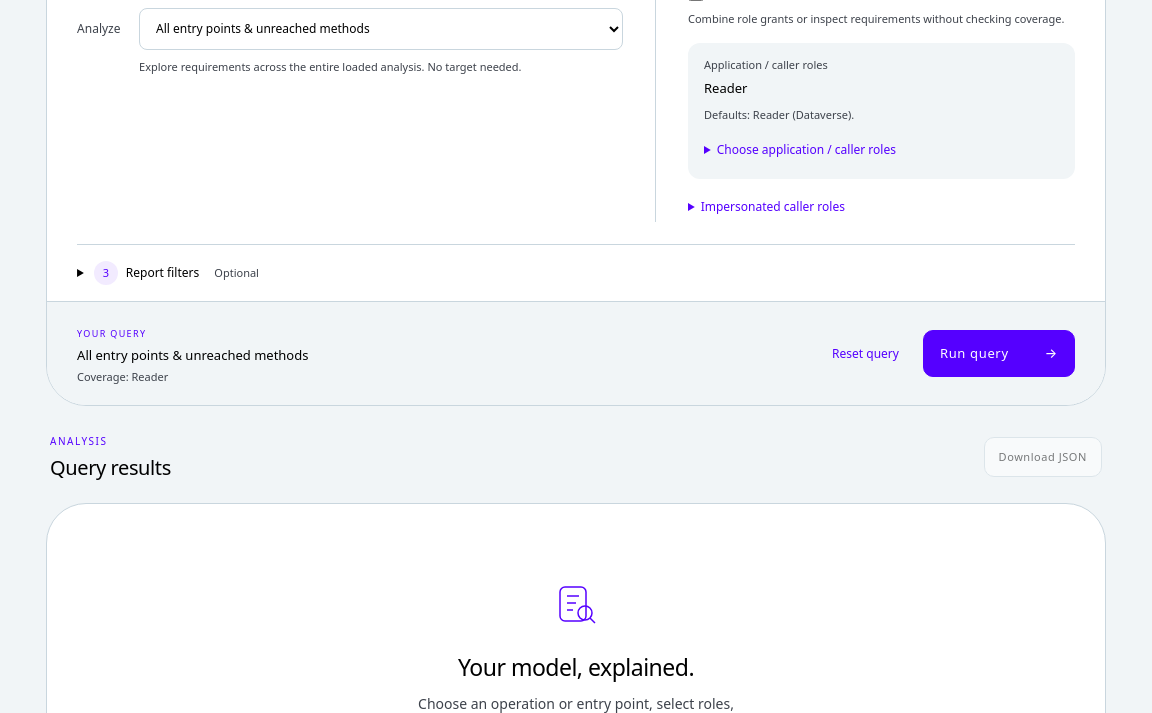
it: React security explorer › shows errors without stale reports and can retry
(page scrolled)
Click the button "Run query →" at (999, 354), box top-left (923, 330), bottom-right (1075, 377)
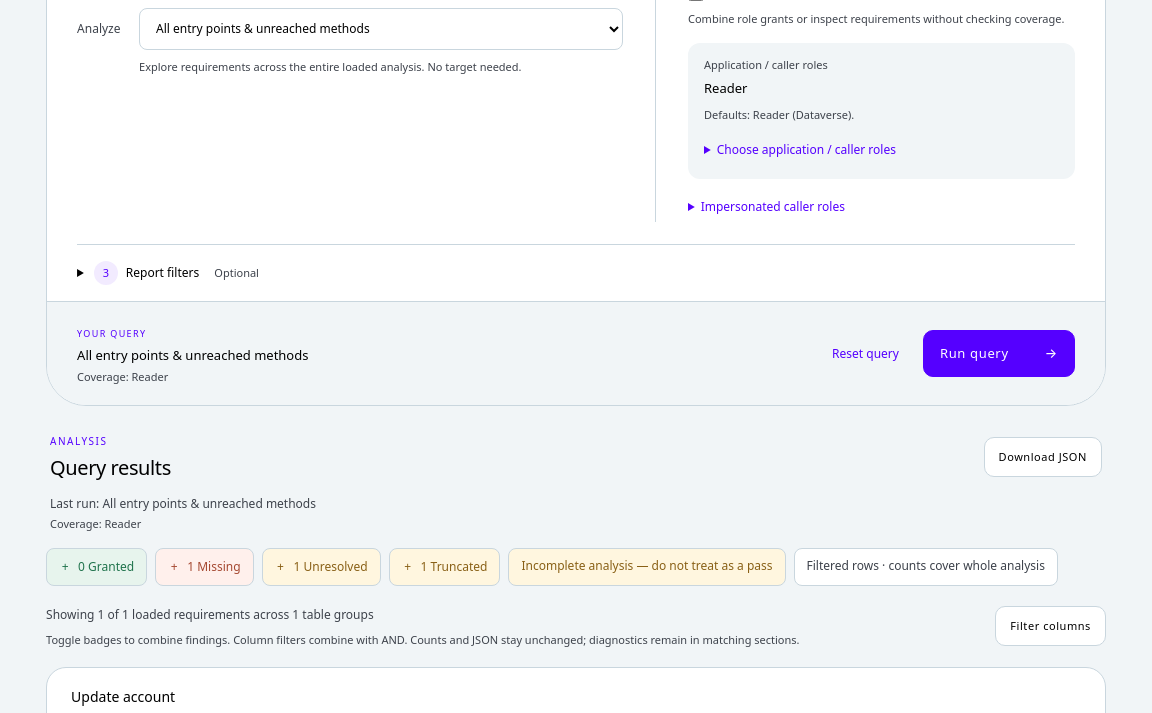
expect the button "+ 1 Missing" is shown: met, box top-left (155, 548), bottom-right (254, 586)
Click the button "Run query →" at (999, 354), box top-left (923, 330), bottom-right (1075, 377)
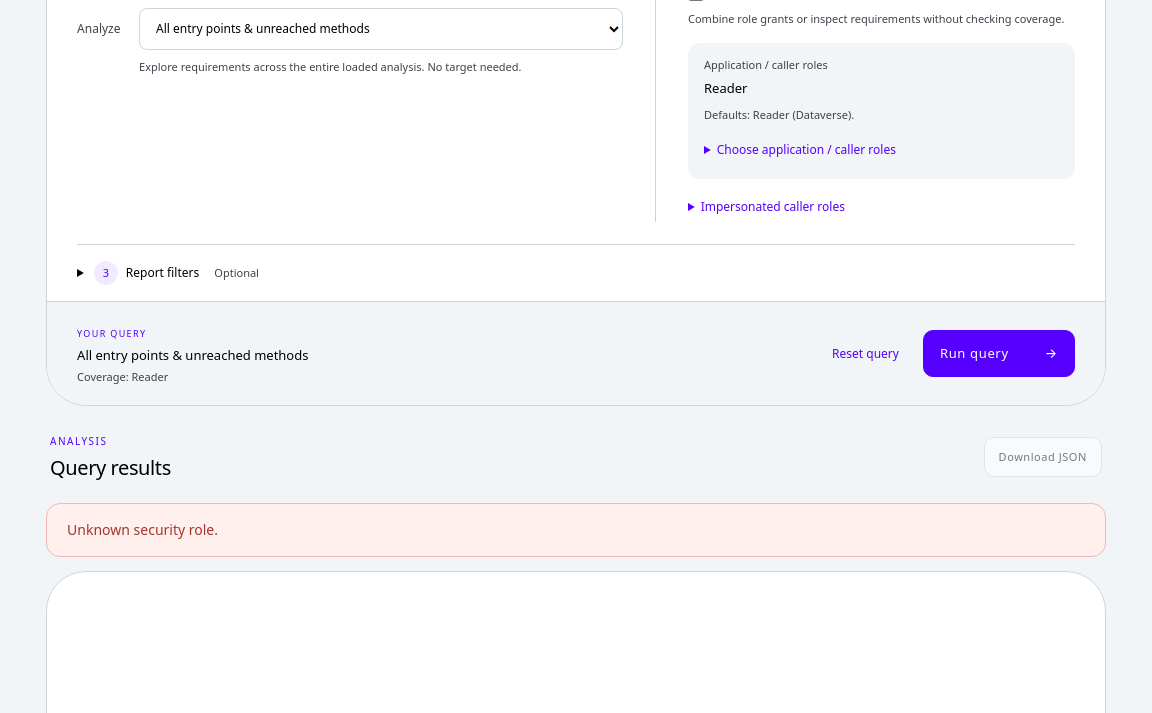
expect the message reads "Unknown security role.": met, box top-left (67, 520), bottom-right (218, 539)
expect the button "1 Missing" is gone: met
expect the button "Download JSON" is disabled: met, box top-left (984, 437), bottom-right (1102, 477)
Click the button "Run query →" at (999, 354), box top-left (923, 330), bottom-right (1075, 377)
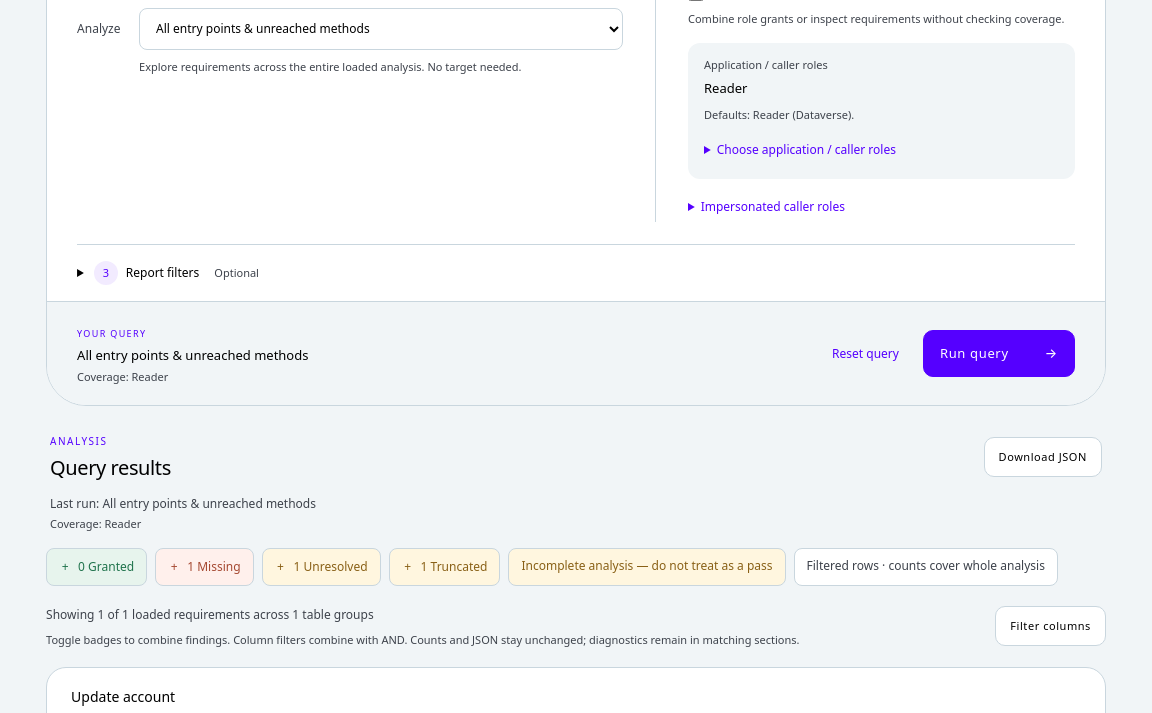
expect the button "+ 1 Missing" is shown: met, box top-left (155, 548), bottom-right (254, 586)
